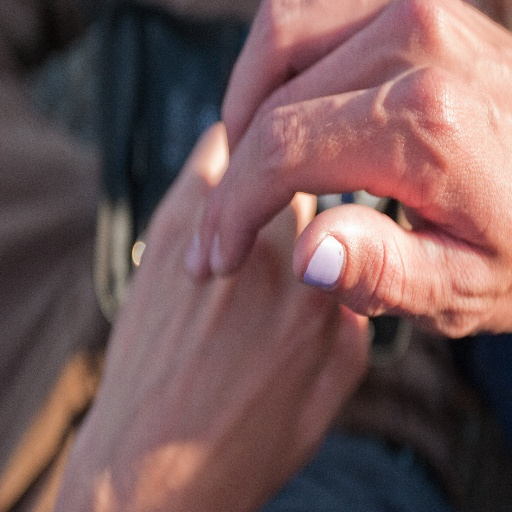hand: (68, 120, 371, 511), (179, 0, 511, 337)
